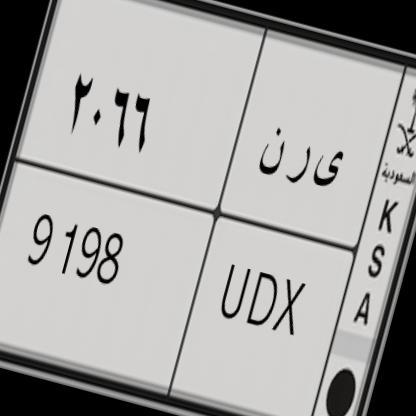english: (0, 143, 365, 416)
